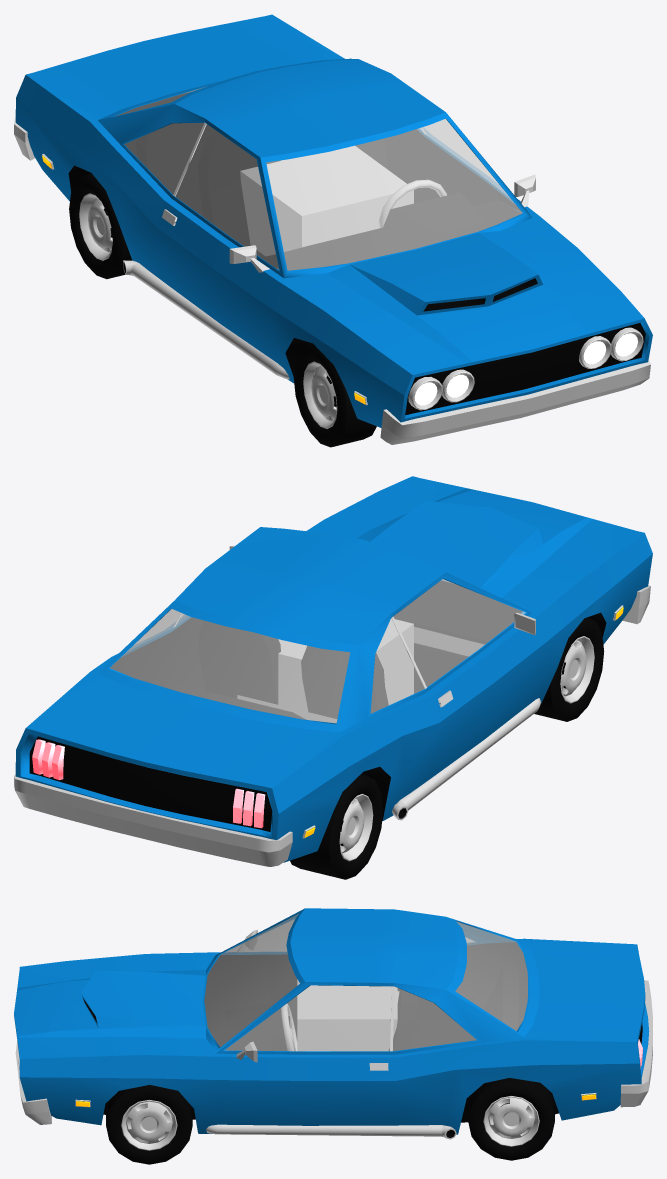
File: car_blue.glb
3 views of the same model, one above another, from view 1: azimuth 30°, elevation 25°; view 2: azimuth 150°, elevation 25°; view 3: azimuth 270°, elevation 25° (orthographic). The views are drawn at different scales.
Parts seen in each view (by area): view 1: Cube_0, Cube, Cube.001_3, Cube.005_6; view 2: Cube_0, Cube.005_6, Cube, Cube.001_3; view 3: Cube_0, Cube, Cube.002_4, Cube.004_5.
Part boxes in pixels (x1,y1,x2,y2): Cube_0: (14,14,652,444); Cube: (240,146,413,255); Cube.001_3: (293,343,376,447); Cube.005_6: (69,173,132,279); Cube_0: (14,476,652,866); Cube.005_6: (290,774,383,879); Cube: (237,619,413,722); Cube.001_3: (534,617,604,721); Cube_0: (14,908,652,1139); Cube: (297,980,399,1050); Cube.002_4: (468,1078,554,1160); Cube.004_5: (106,1085,192,1164).
Size of the model in its own units: 5.46 by 3.6 by 12.16.
